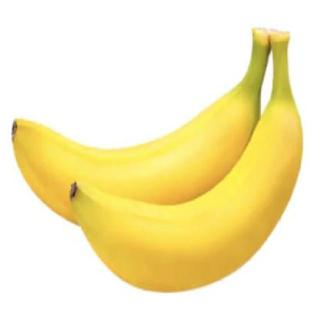banana: (69, 100, 305, 294), (8, 89, 263, 235)
